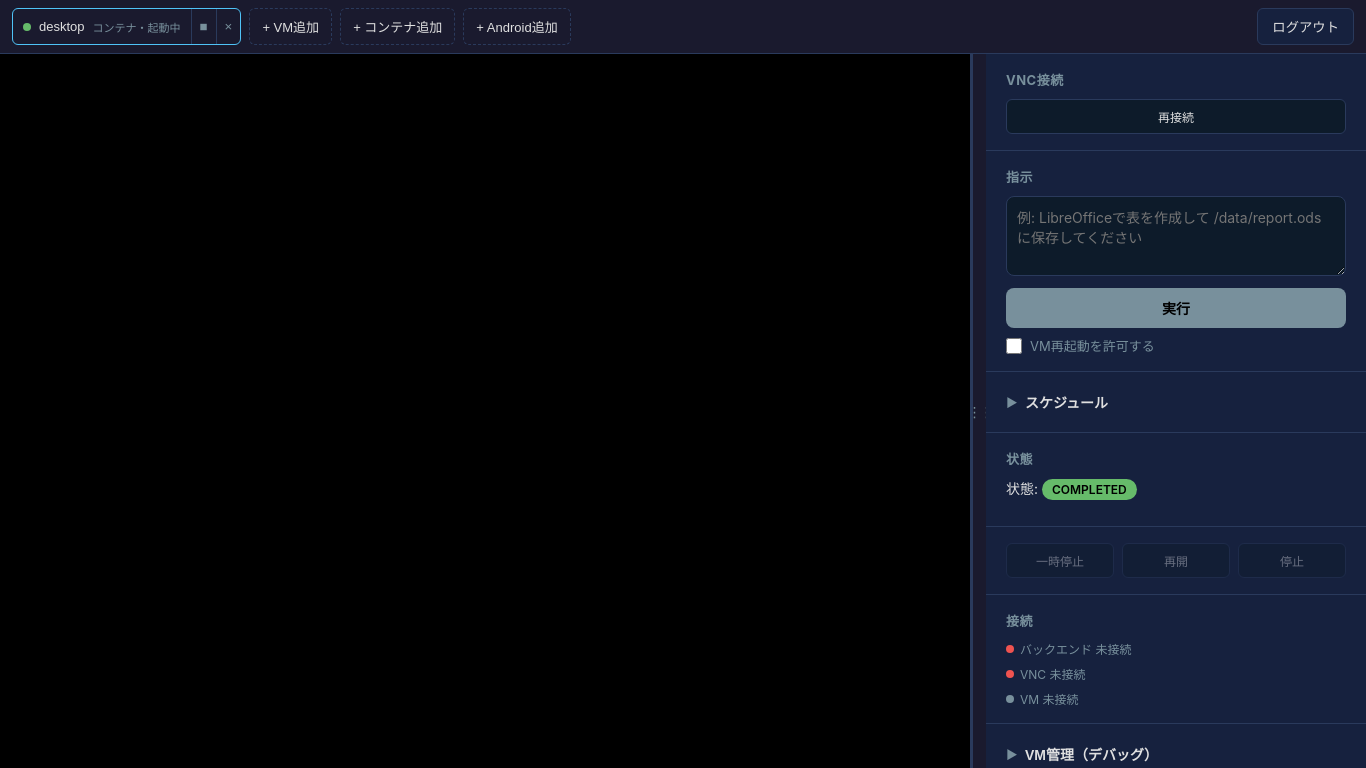
Test: a submission response can detect a restart before the WebSocket reconnects
This screenshot has width=1366, height=768.
In the text box named "指示": (1176, 236) [1006, 196, 1346, 276], type "報告書を保存する"
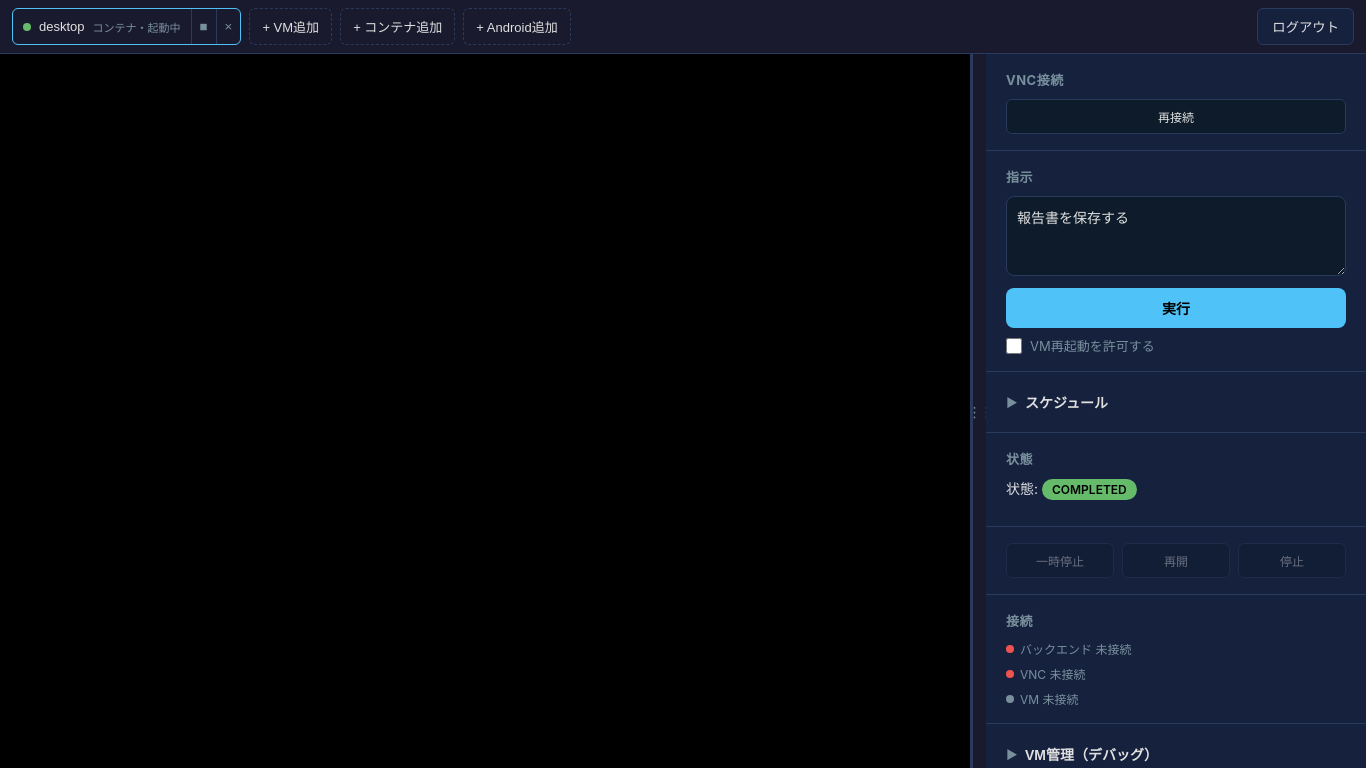
Click the button "実行": (1176, 308) [1006, 288, 1346, 328]
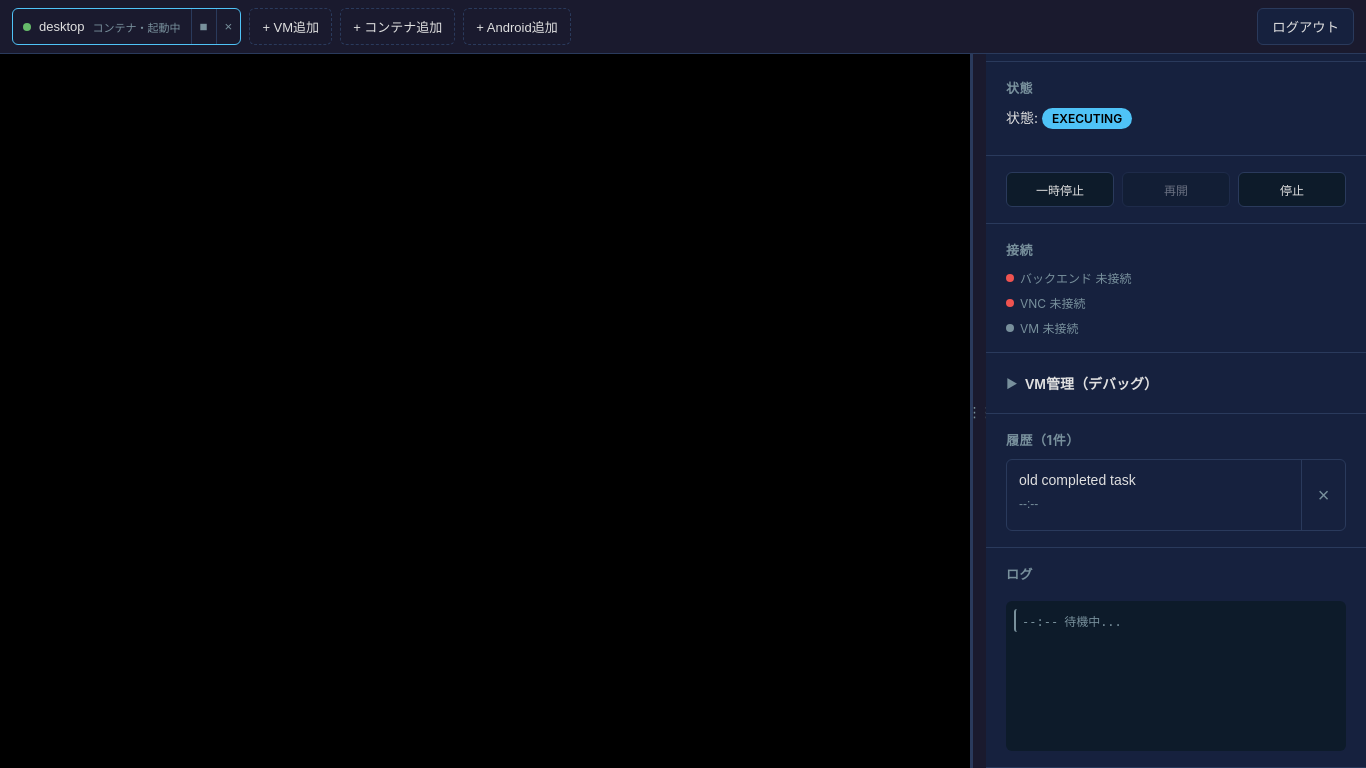
Result: the button "停止" is enabled at [1238, 172, 1346, 207]
